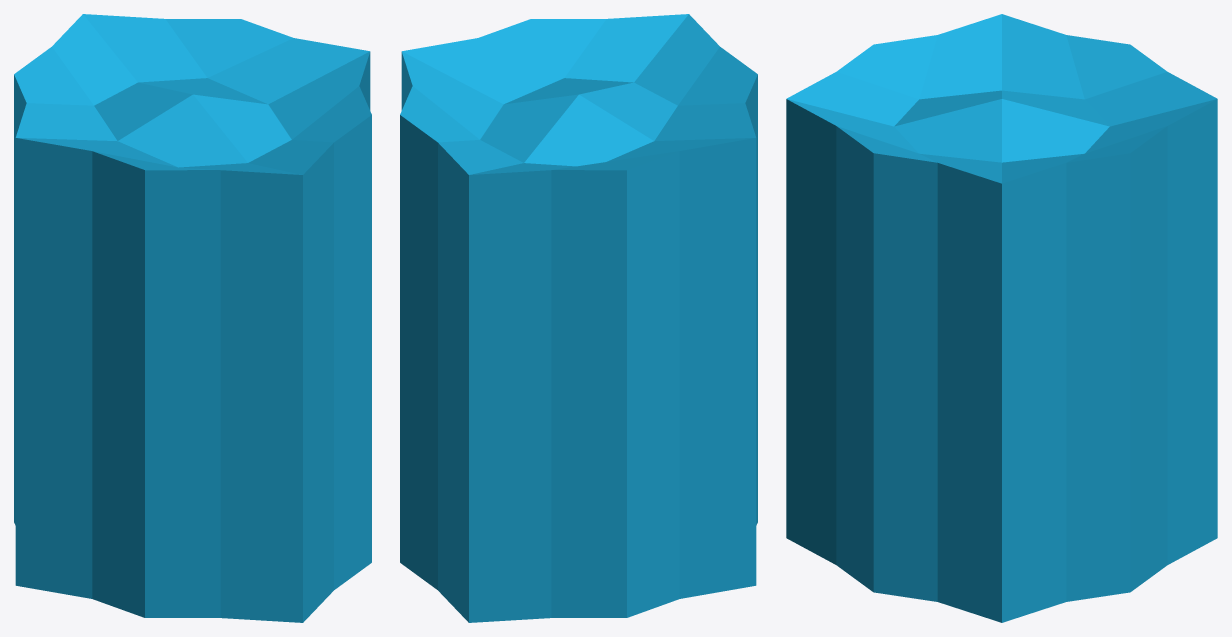
The model's file is Тестовый_металл.glb.
The picture shows the model from 3 angles, left to right: view 1: azimuth 30°, elevation 25°; view 2: azimuth 150°, elevation 25°; view 3: azimuth 270°, elevation 25°; orthographic projection.
Parts seen in each view (by area): view 1: Cube; view 2: Cube; view 3: Cube.
Part boxes in pixels (x1=…): Cube: x1=14, y1=14, x2=371, y2=622; Cube: x1=400, y1=14, x2=757, y2=622; Cube: x1=786, y1=14, x2=1217, y2=622.
Bounding box in the file's own units: 1.99 × 2.4 × 2.13.
